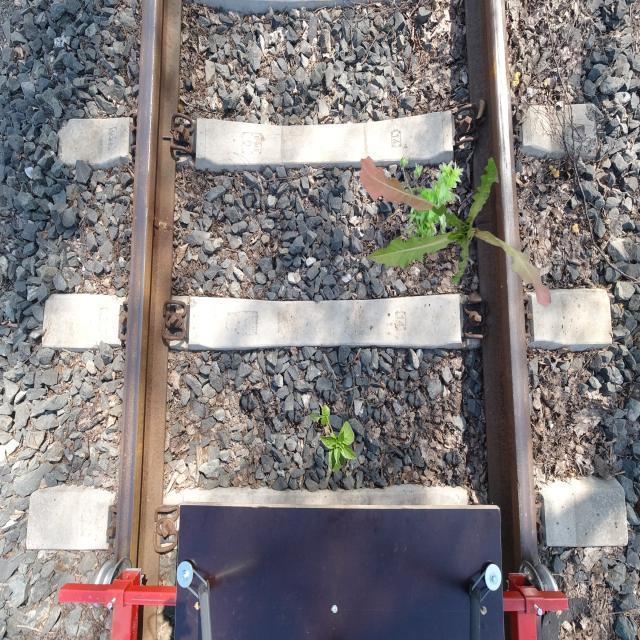Plant: (359, 156, 552, 308), (399, 155, 464, 262), (310, 403, 358, 474)
